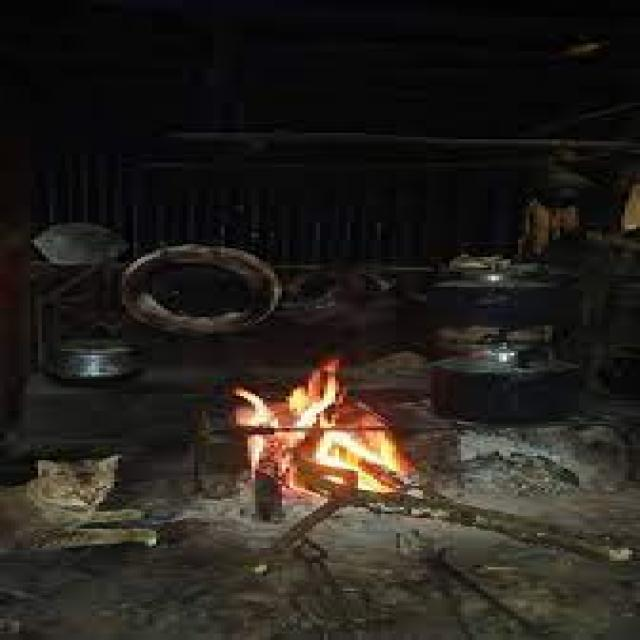fire: (232, 355, 409, 494)
